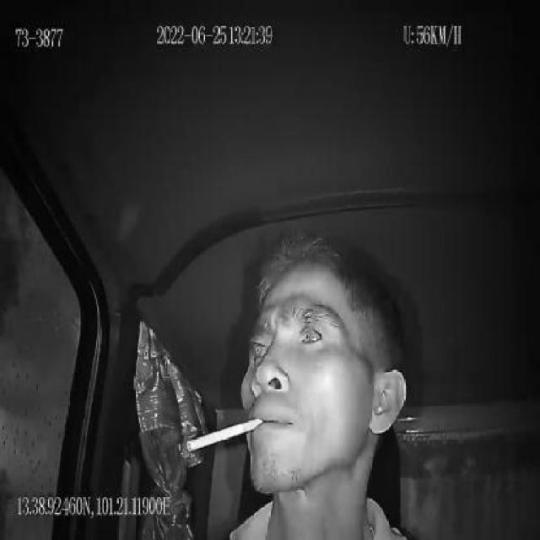smoking: (186, 414, 260, 456)
